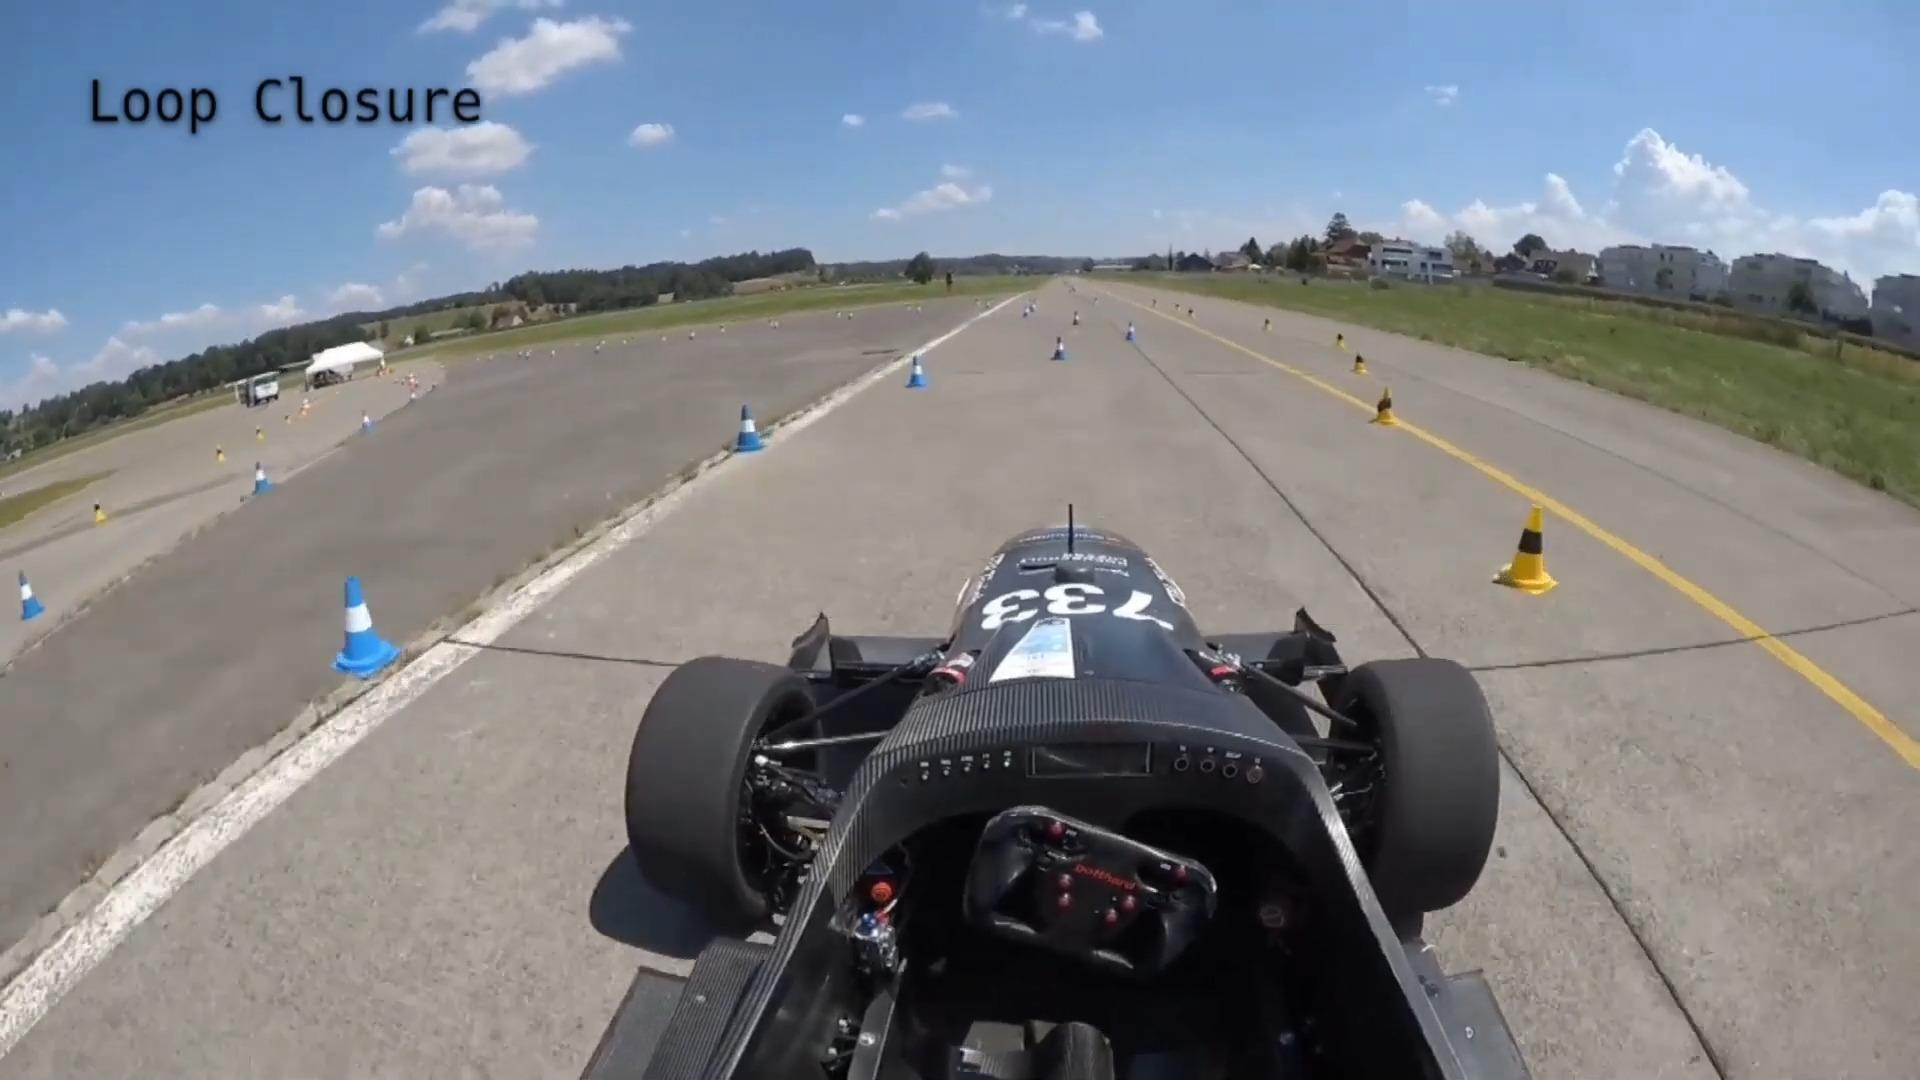blue_cone: (326, 579, 402, 684), (727, 404, 767, 463), (17, 572, 42, 622), (1043, 332, 1072, 364), (905, 353, 928, 390), (252, 459, 274, 497), (355, 407, 373, 439), (1124, 319, 1143, 345), (1071, 307, 1084, 331)
yellow_cone: (1497, 502, 1556, 592), (1371, 384, 1403, 430), (88, 495, 111, 525), (1349, 349, 1369, 376), (212, 442, 231, 467), (1332, 331, 1348, 353), (255, 423, 266, 443), (1261, 316, 1273, 334)
